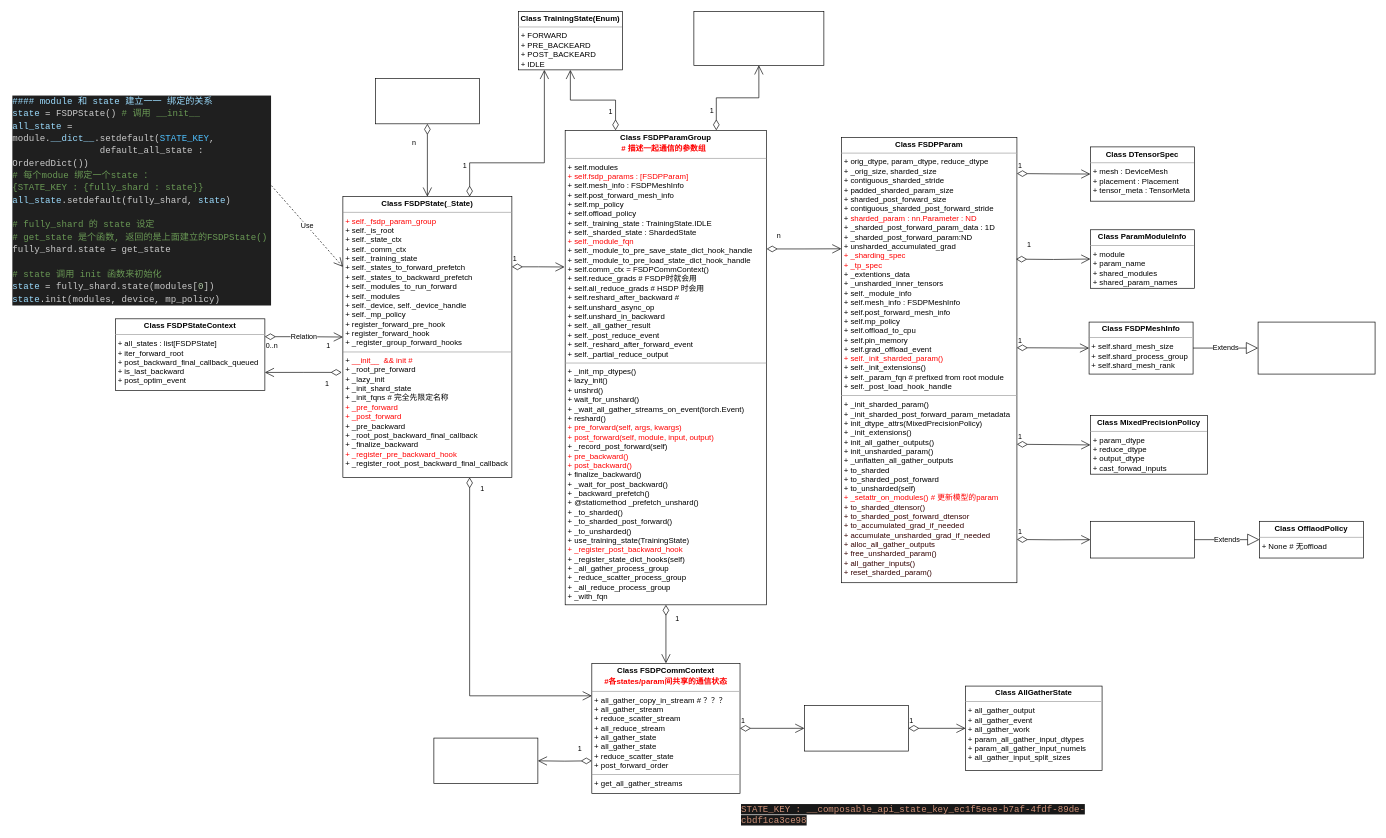
Image size: 1386x838. Some labels were removed from this diagram. Each missing label, with the centre of its shape:
"_module_state_mapping # 一个module绑定一个state # {nn.Moudle : _state}" belongs at point 427,101.
"Class AllGatherState + AllGatherResult + torch.Event" belongs at point 856,728.
"Class CPUOffloadPolicy + pin_memory" belongs at point 1142,539.
"Class DataParallelMeshInfo + DeviceMesh + shard_mesh_dim + replicate_mesh_dim" belongs at point 1316,347.
"Class ReduceScatterState + reduce_scatter_input + torch.Event" belongs at point 485,760.
"Class ShardedState(Enum) + SHARDED + SHARDED_POST_FORWARD + UNSHARDED" belongs at point 758,38.
